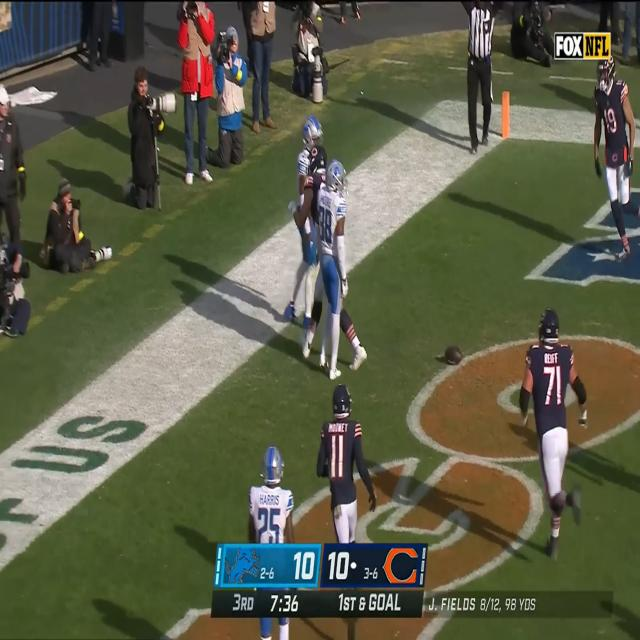football: (444, 346, 462, 365)
players: (289, 146, 368, 372), (520, 310, 588, 558), (247, 442, 296, 640), (288, 120, 326, 370), (317, 384, 377, 541), (594, 48, 637, 265), (316, 159, 349, 381)
